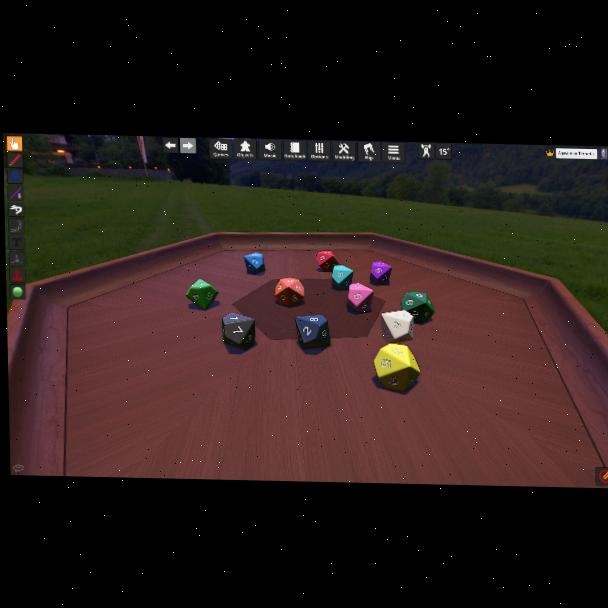d10: (372, 344, 420, 392), (219, 312, 253, 350), (400, 291, 435, 325), (295, 314, 328, 349), (381, 310, 413, 344), (186, 278, 219, 310), (273, 277, 304, 308), (345, 283, 372, 313), (331, 265, 353, 290), (370, 261, 392, 284), (243, 252, 264, 275), (315, 250, 334, 272)
